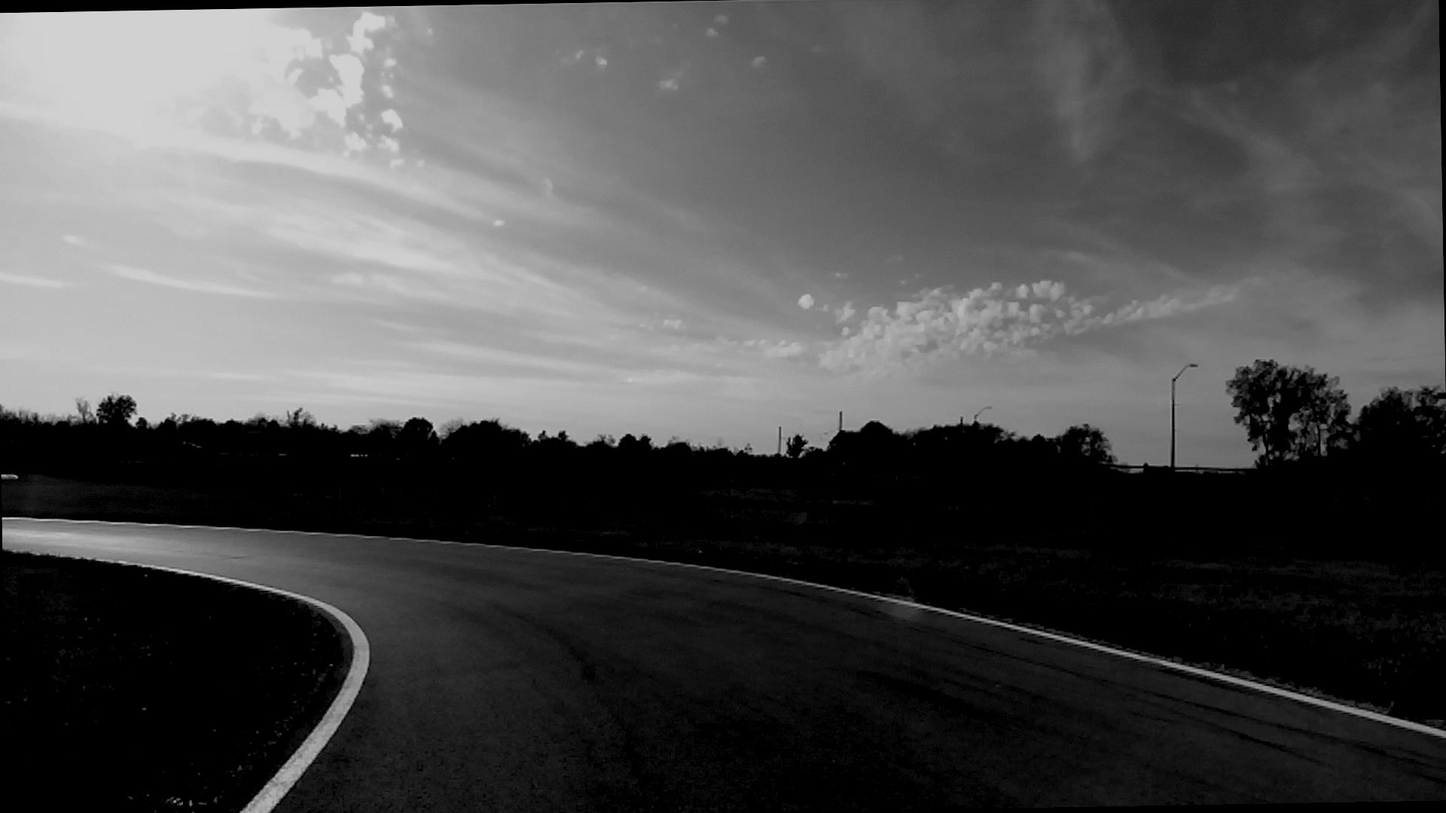white-line: (474, 542, 1446, 740), (63, 554, 367, 813)
